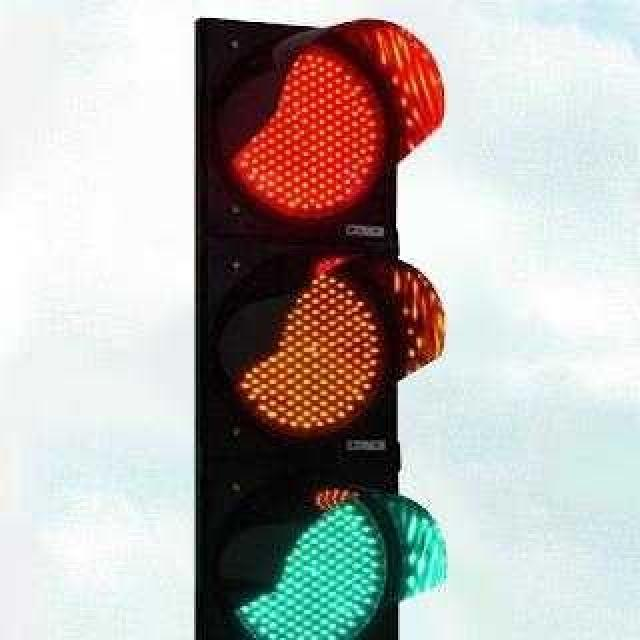Traffic Light -Green-: (186, 461, 452, 640)
Traffic Light -Red-: (188, 11, 452, 246)
Traffic Light -Yellow-: (185, 246, 452, 460)
